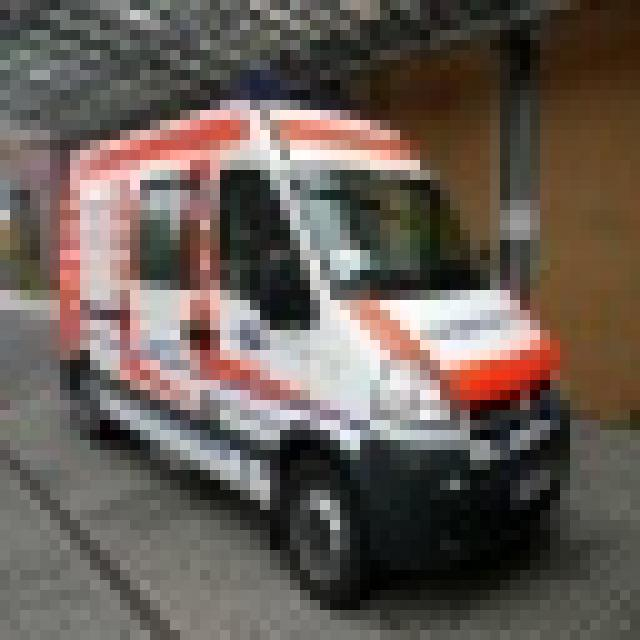Ambulance: (50, 90, 570, 600)
